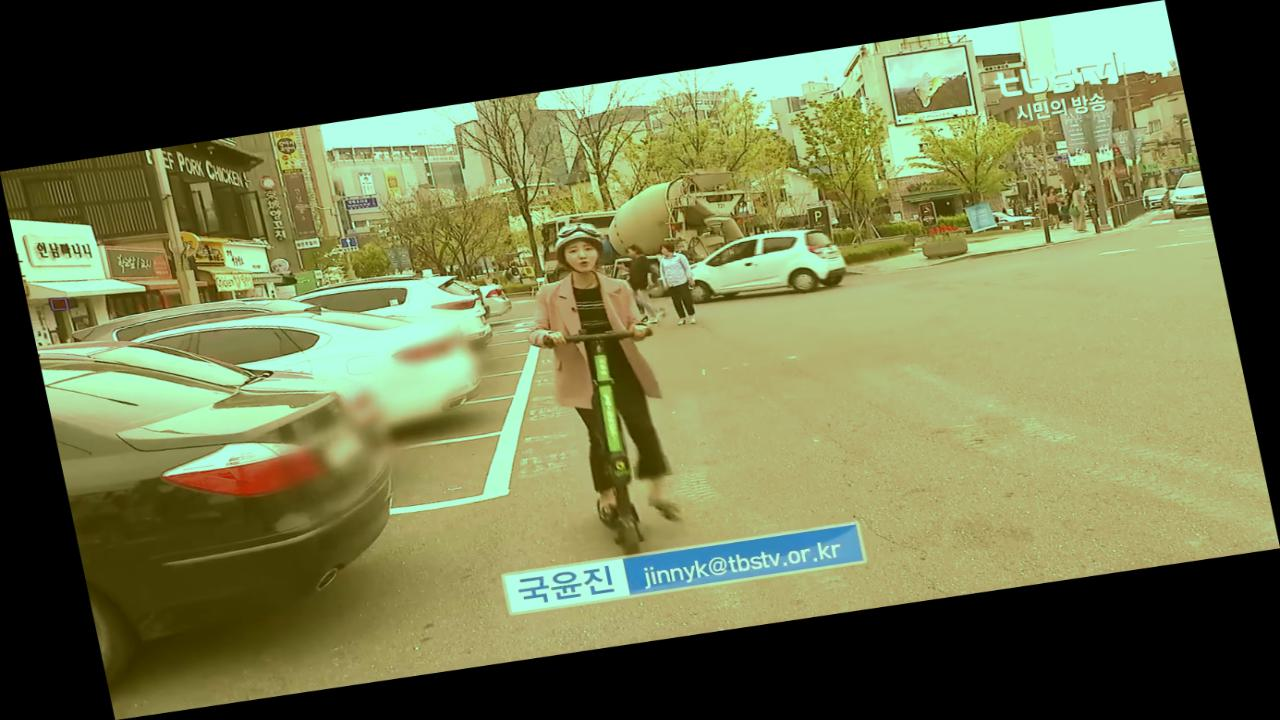helmet: (498, 211, 723, 563)
